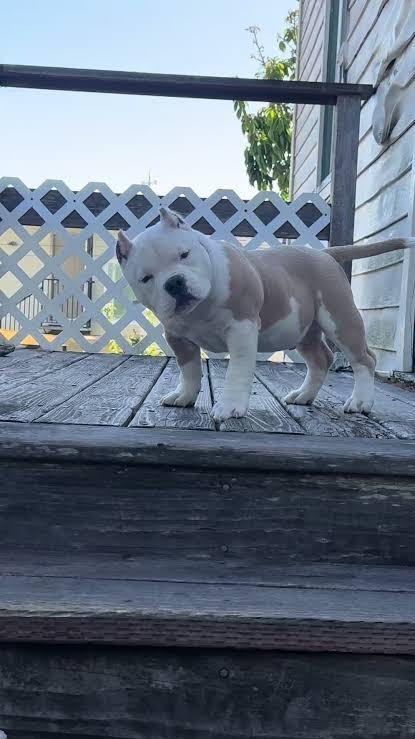adult_dog: (115, 207, 415, 418)
